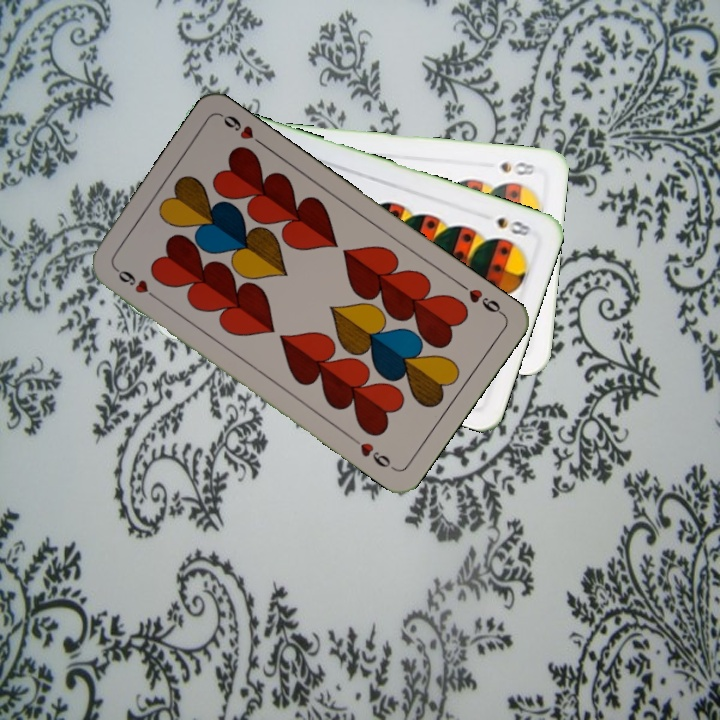H9: (111, 263, 162, 304), (455, 278, 506, 318)
S8: (493, 213, 535, 239), (496, 157, 539, 178)
